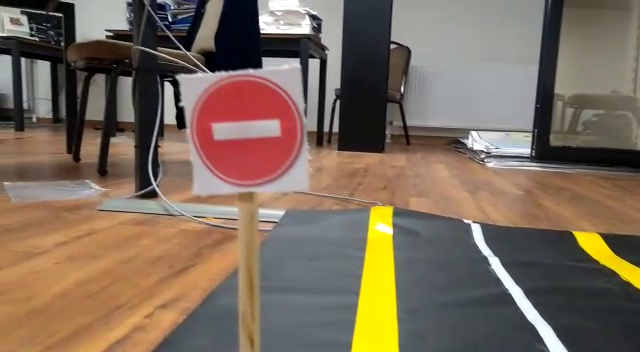girisi_olmayan_yol: (186, 67, 311, 187)
